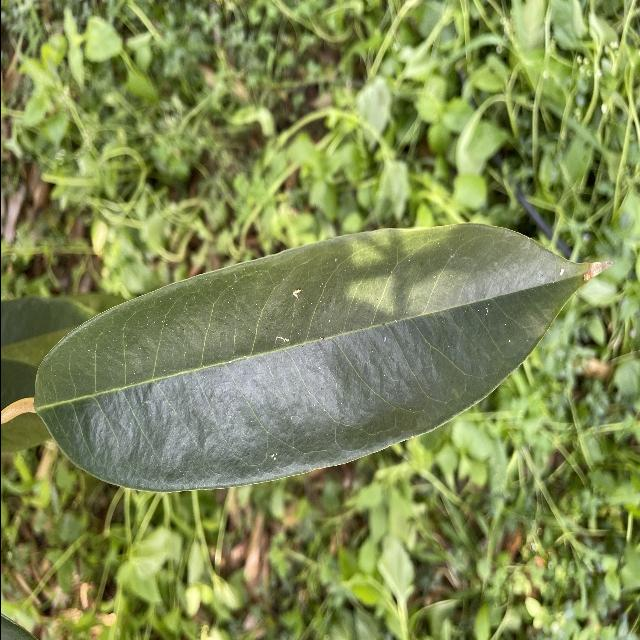No Disease: (23, 211, 609, 499)
